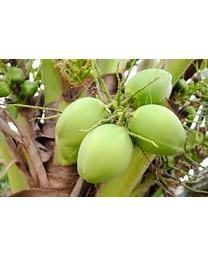coconut: (77, 122, 134, 181), (127, 104, 187, 156), (55, 97, 112, 148), (124, 67, 173, 110)
